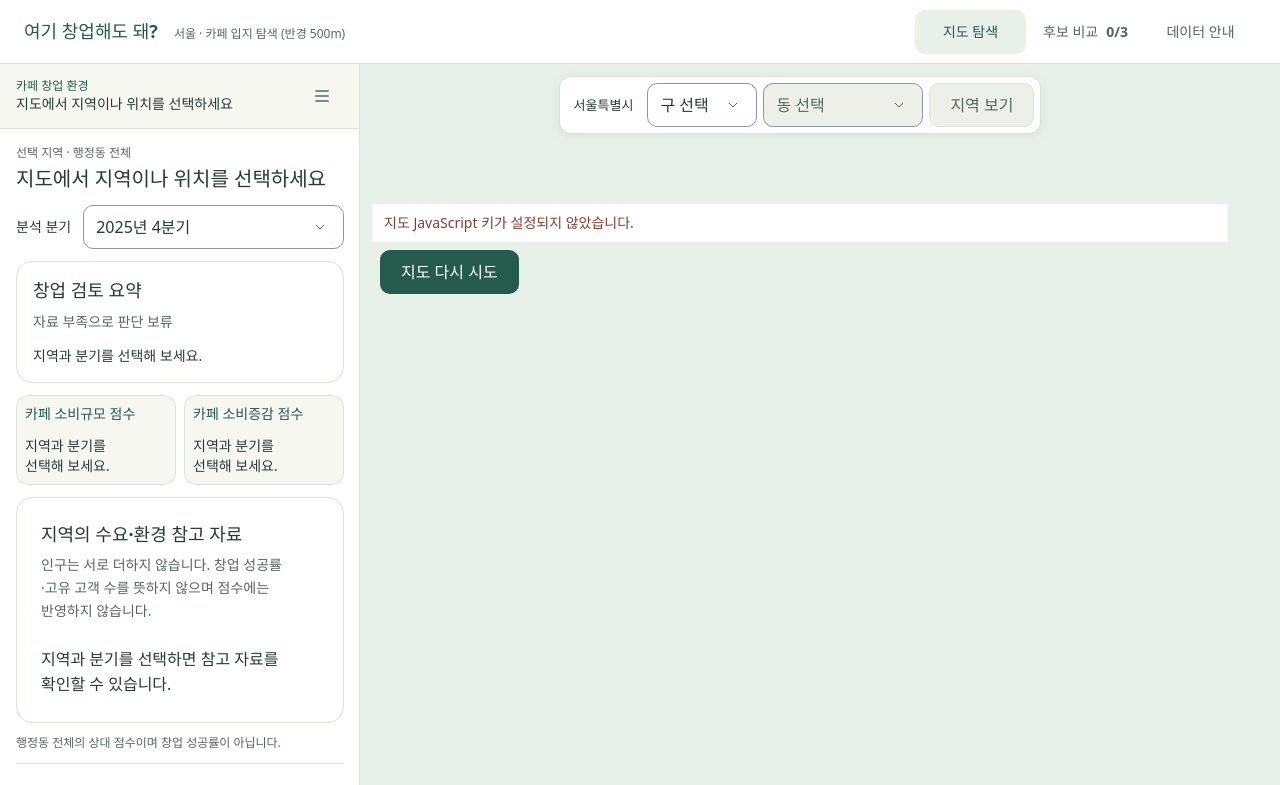
Test: searches a dong without a map SDK, opens the panel and shows actual score evidence without inventing a candidate point
expect the dropdown named "자치구" is enabled: met, box [647,83,757,127]
Step 1. Click the button named "분석 패널 닫기" → (322, 96), box [300,74,344,118]
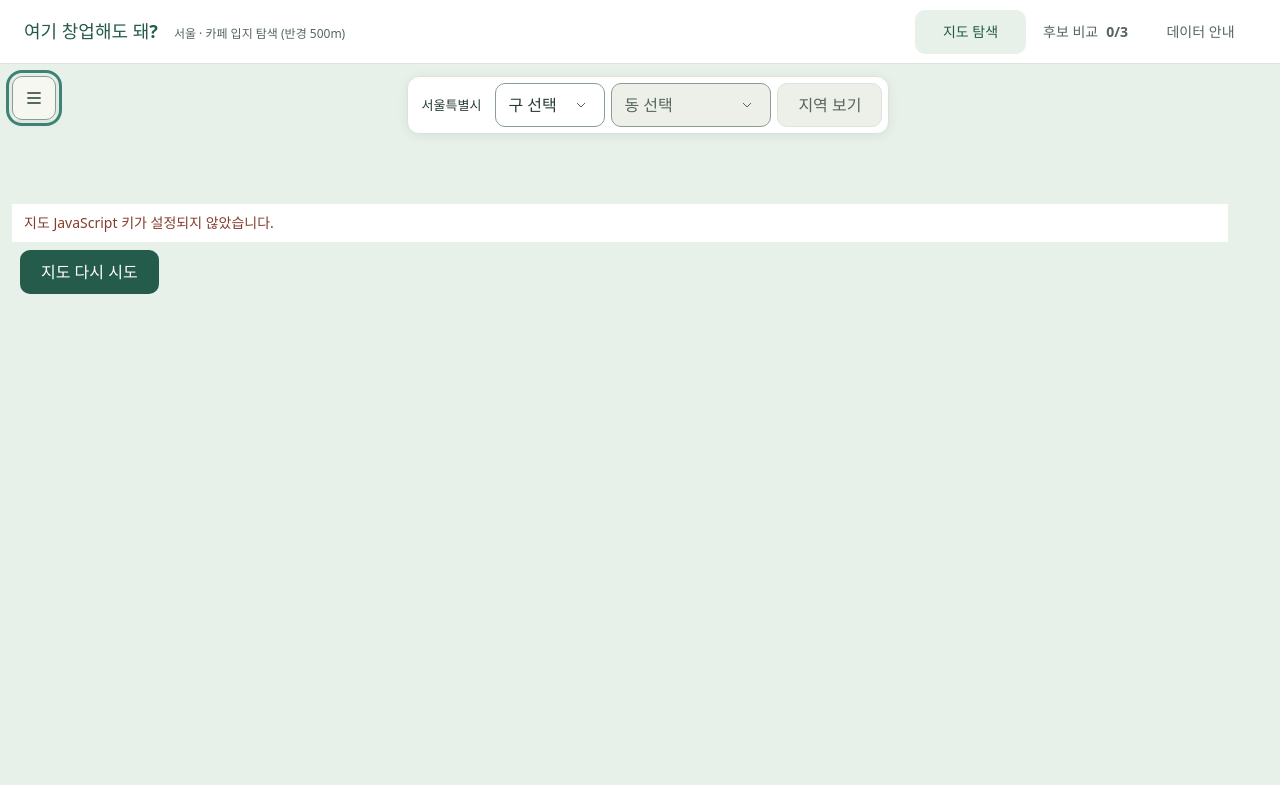
Step 2. Select "종로구" in the dropdown named "자치구" → (550, 105), box [495,83,605,127]
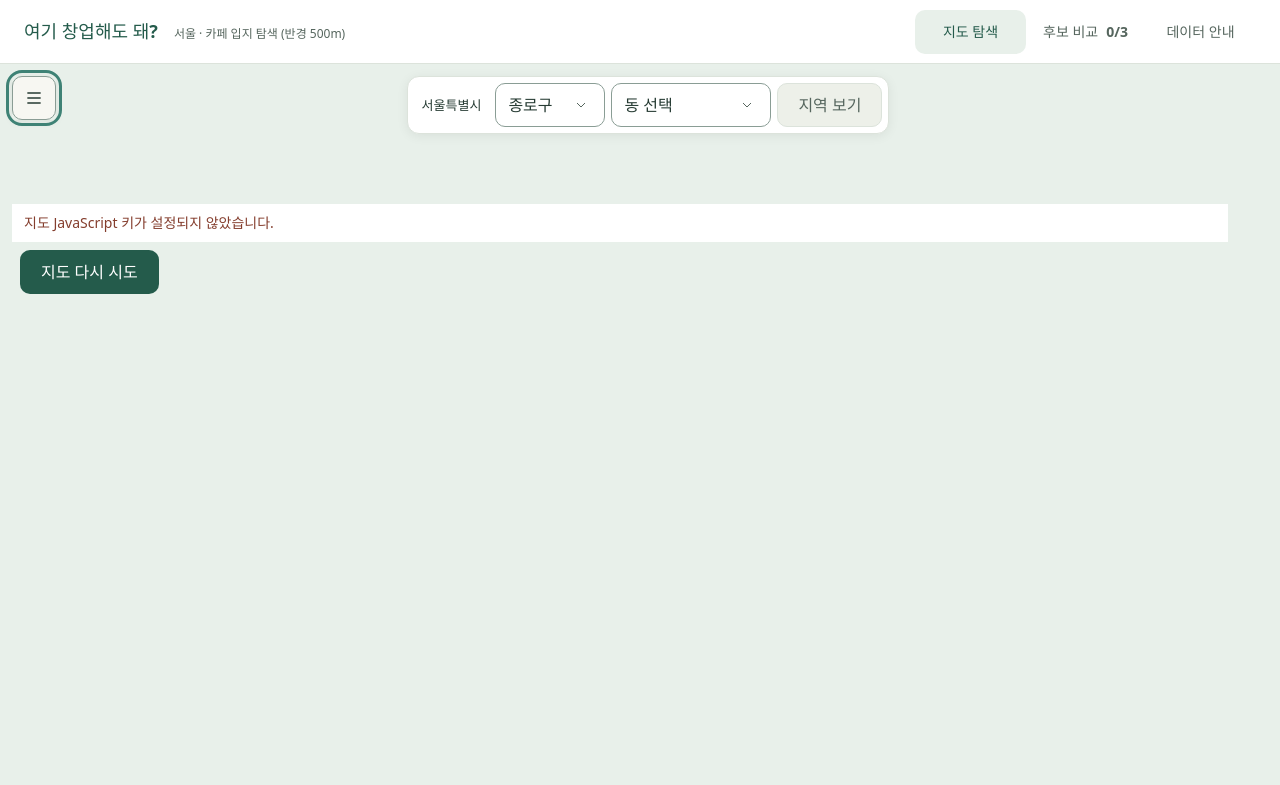
Step 3. Select "청운효자동" in the dropdown named "행정동" → (691, 105), box [611,83,771,127]
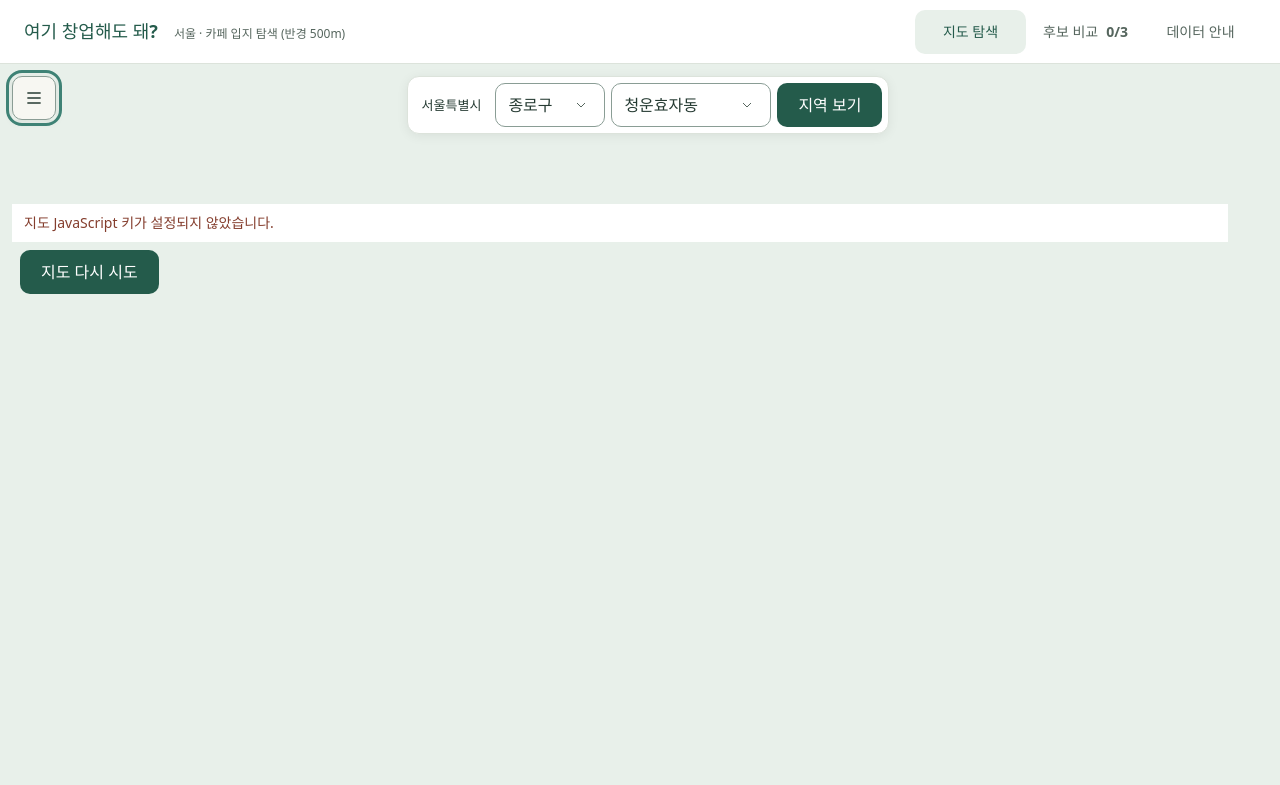
Step 4. Click the button "지역 보기" → (830, 105), box [777,83,882,127]
(page scrolled)
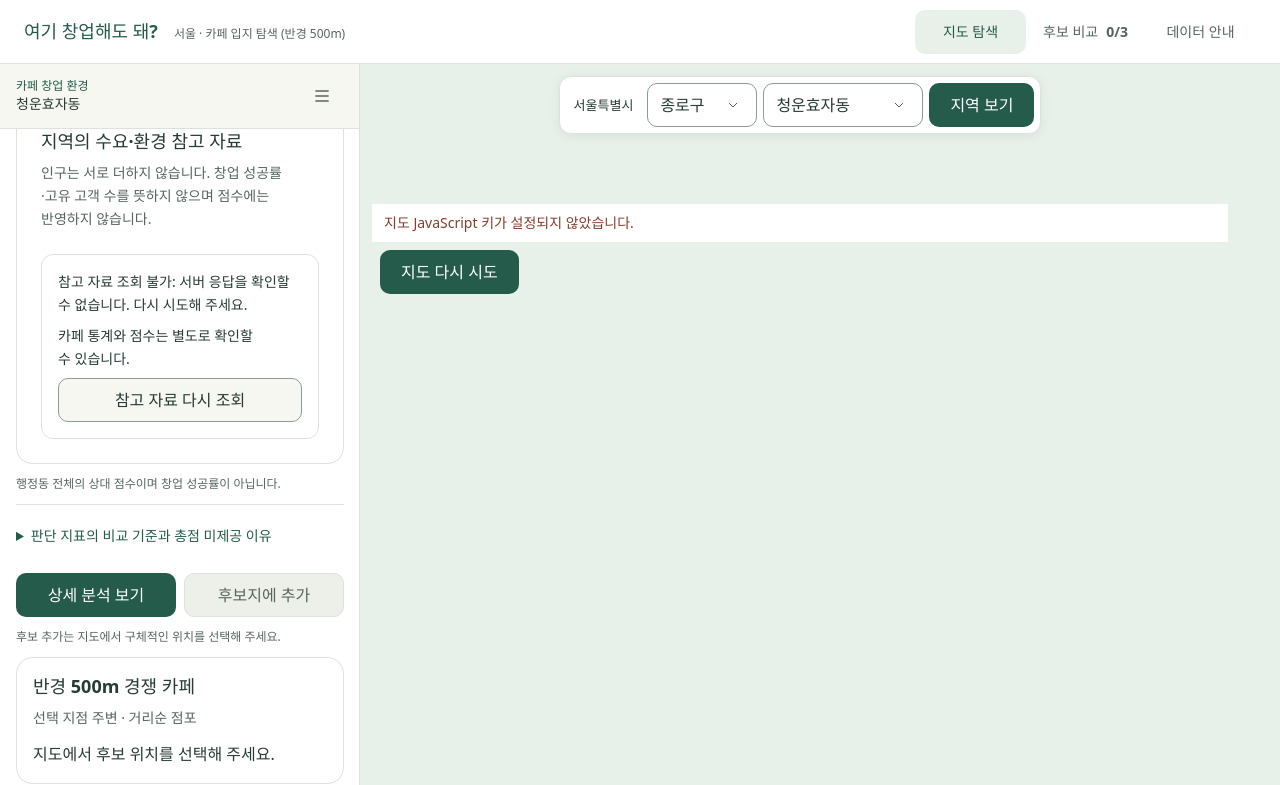
expect the text "9,007,199,254,740,993건" is not shown: met
expect the button "후보지에 추가" is disabled: met, box [184,573,344,617]
expect the button named "분석 패널 닫기" is expanded: met, box [300,74,344,118]
Step 5. Click the button "상세 분석 보기" → (96, 595), box [16,573,176,617]
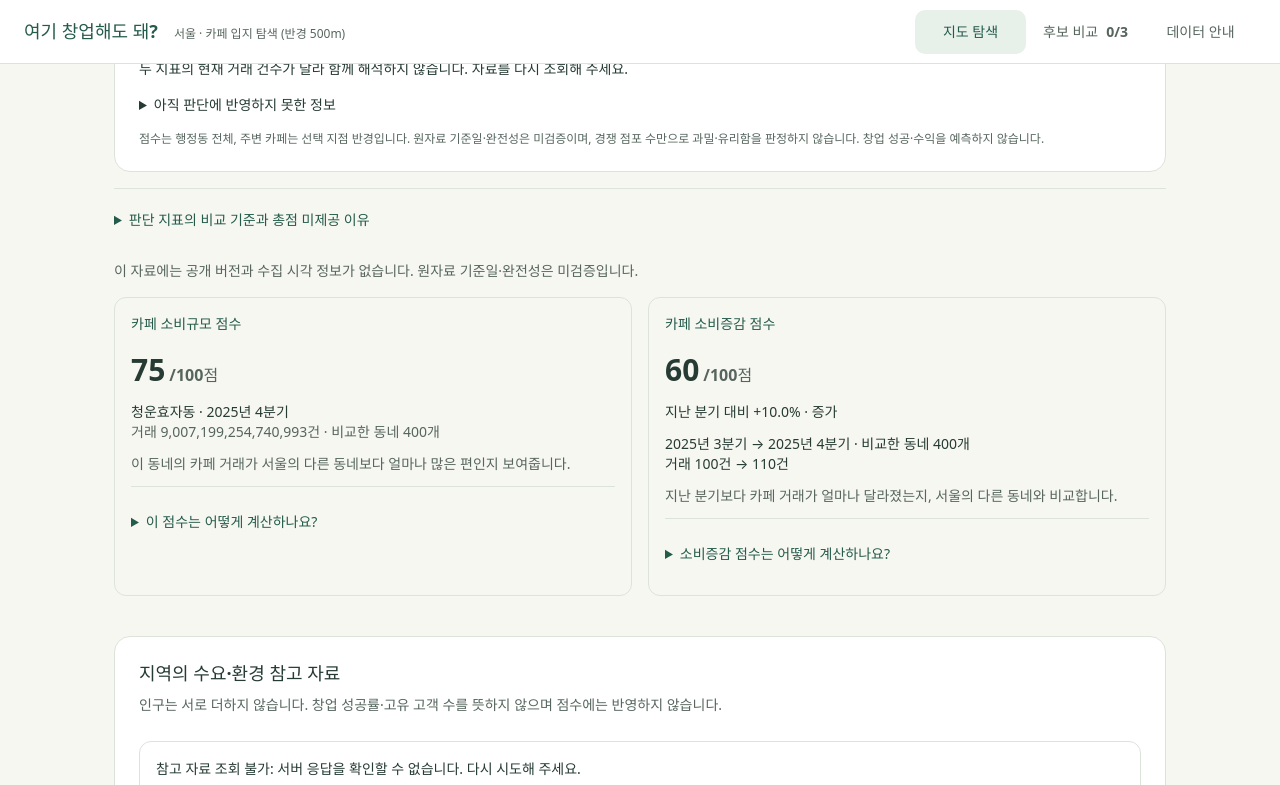
expect the text "거래 9,007,199,254,740,993건 · 비교한 동네 400개" is shown: met, box [131,422,440,441]
